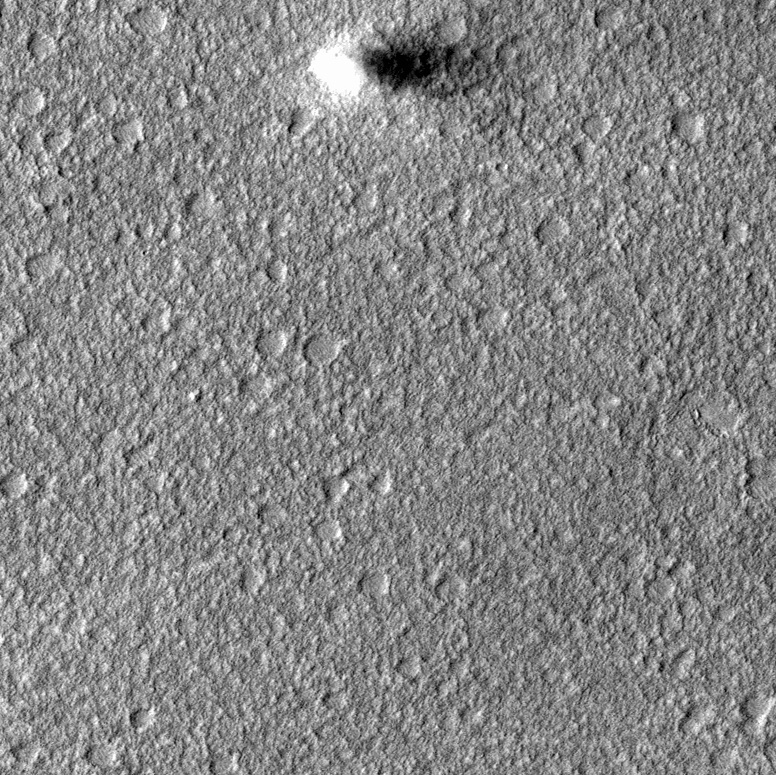dust_devil: (304, 26, 500, 110)
